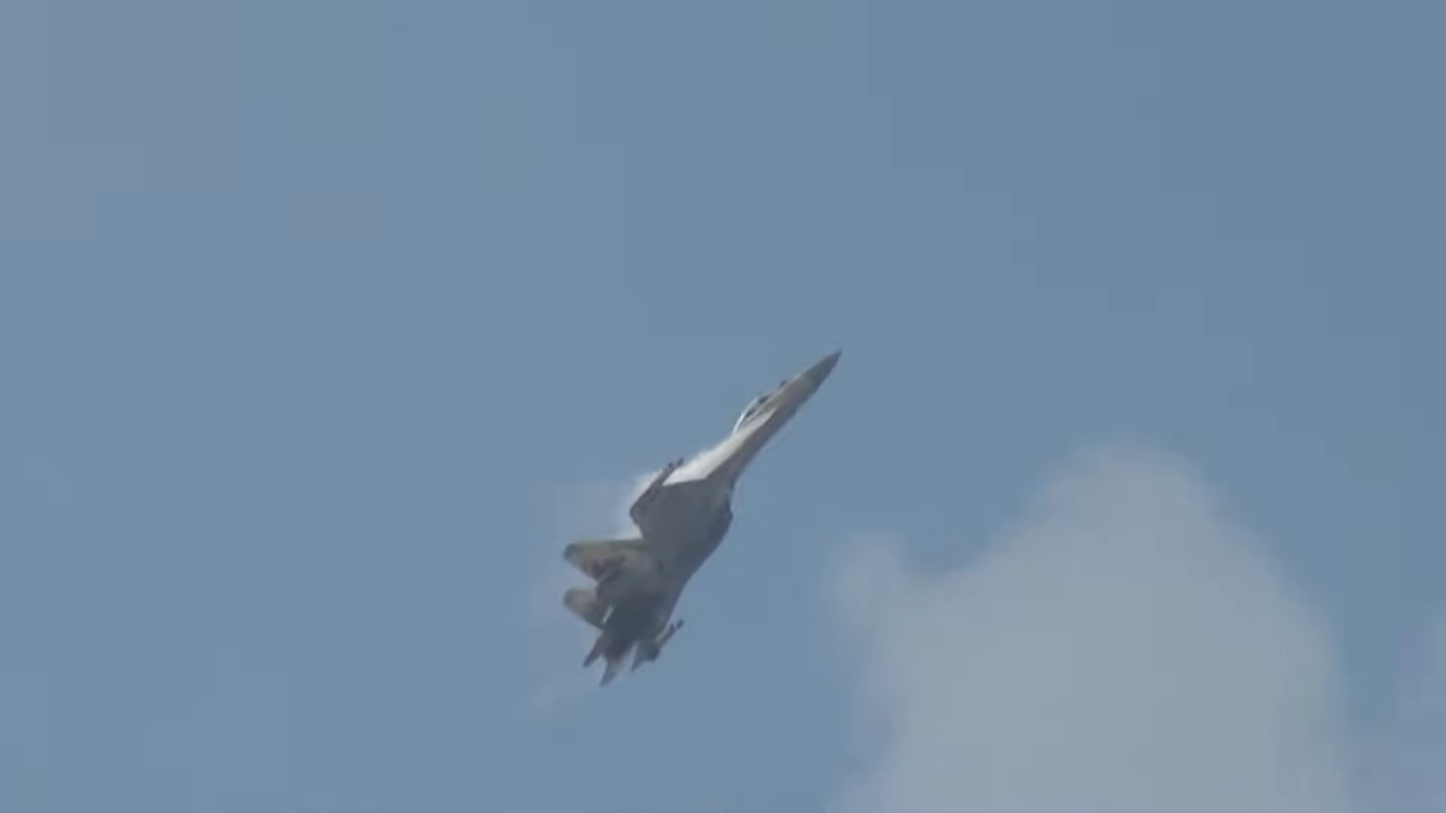Su35: (558, 348, 843, 688)
